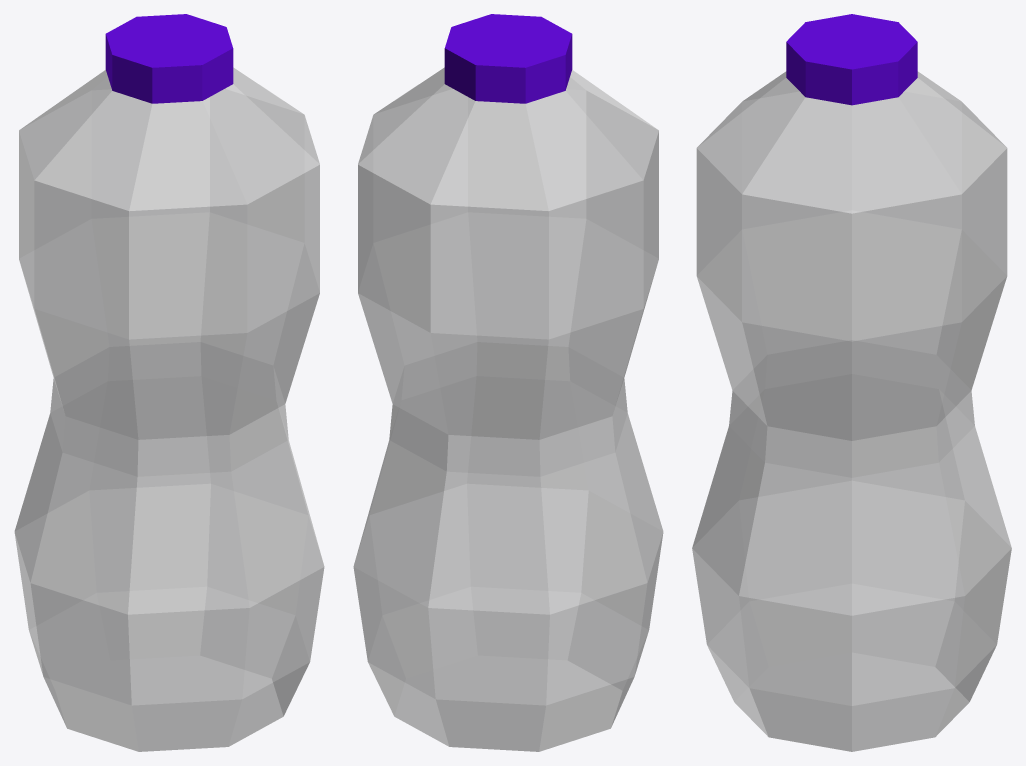
File: Bottle_Plastic.fbx
3 renders of one model, left to right at view 1: azimuth 30°, elevation 25°; view 2: azimuth 150°, elevation 25°; view 3: azimuth 270°, elevation 25°, orthographic.
Visible parts, largest first — view 1: Cylinder007.001; view 2: Cylinder007.001; view 3: Cylinder007.001.
Boxes of the visible parts, x1,y1,x2,y2 form: Cylinder007.001: (14,14,324,751); Cylinder007.001: (353,14,663,751); Cylinder007.001: (692,14,1011,751).
Size of the model in its own units: 12.1 by 27.57 by 12.1.
